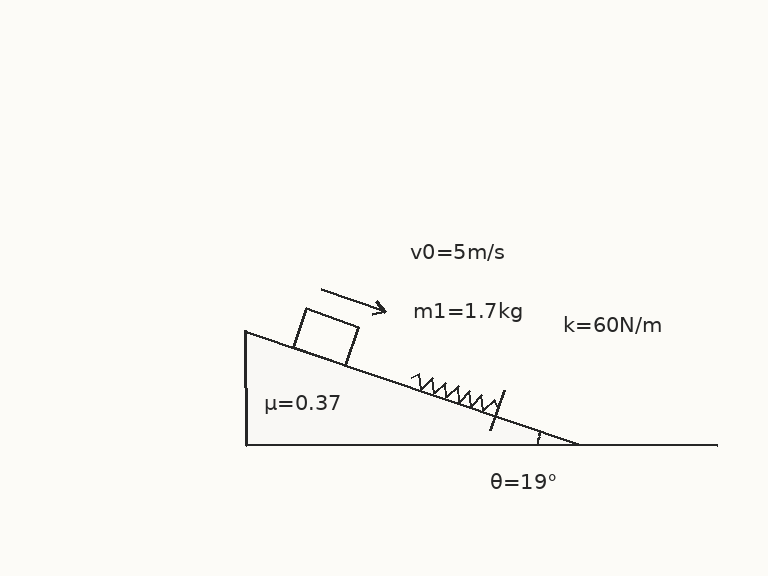block: (291, 306, 361, 367)
ramp: (243, 328, 580, 447)
spring: (409, 372, 500, 412)
